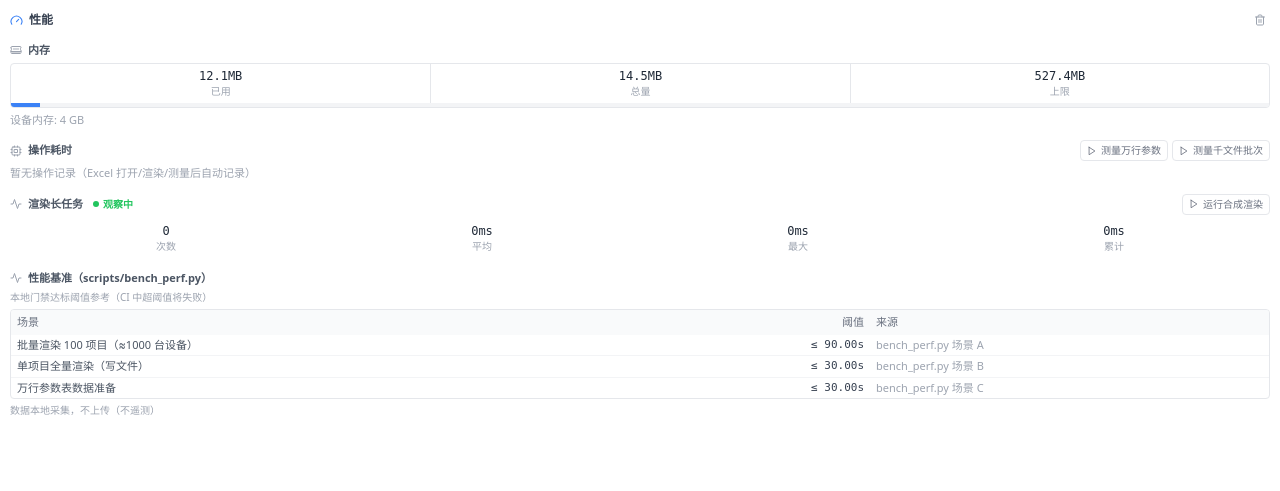
PerformancePanel（S6-3/S6-4 采集展示） › 点击测量千文件批次 → 记录 render 操作
Click the button "测量千文件批次" at (1221, 150), box [1172, 140, 1270, 161]
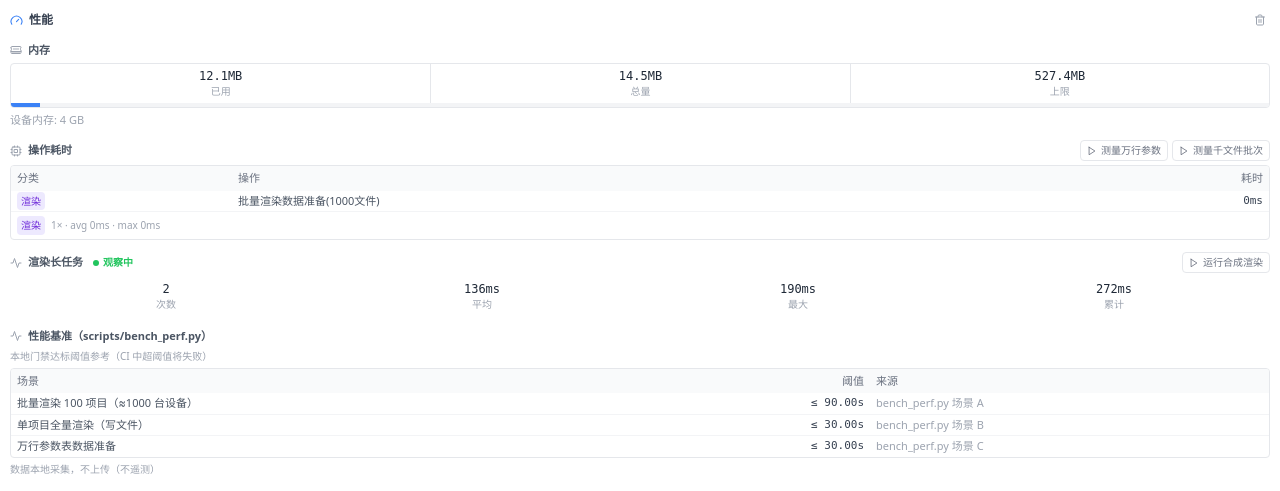
Check: the text "批量渲染数据准备(1000文件)" is shown, box [232, 190, 1081, 211]
